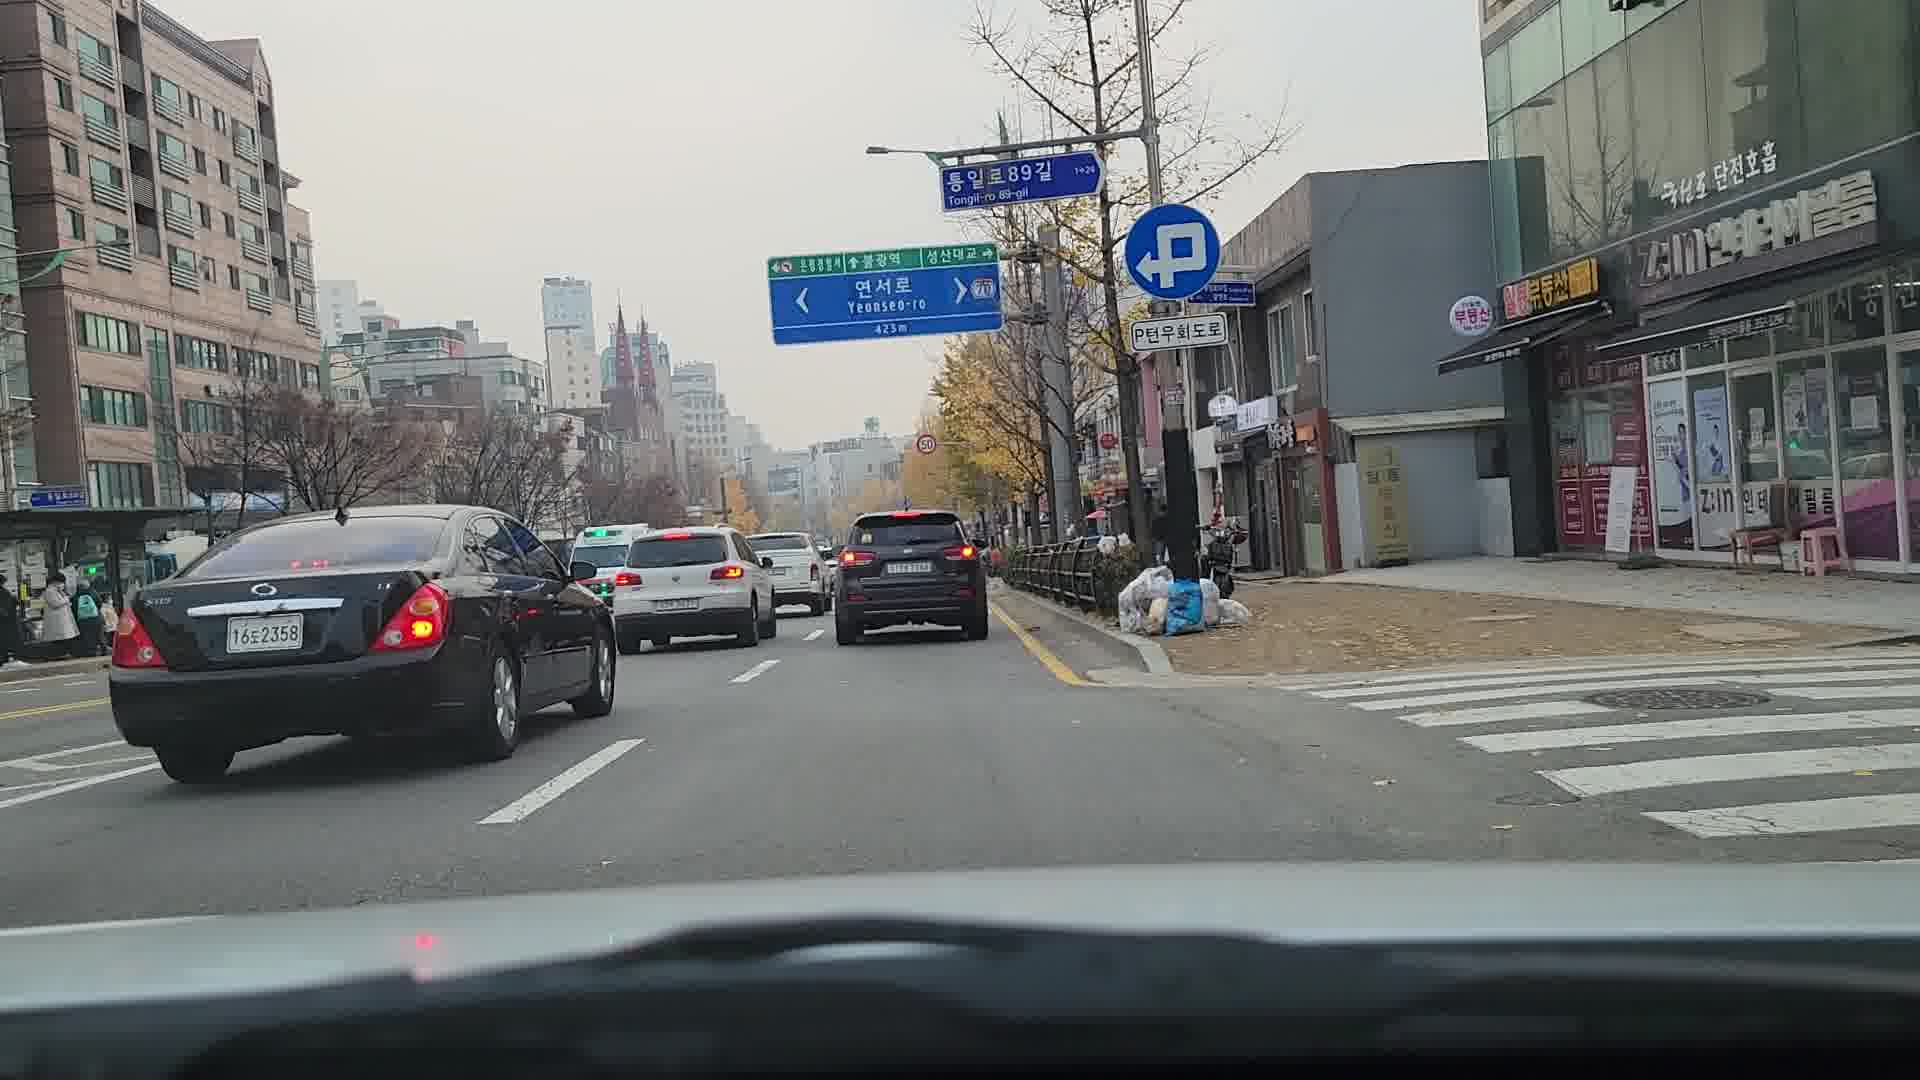car: (97, 499, 627, 782), (566, 522, 782, 653), (746, 531, 833, 615)
person: (1198, 515, 1248, 602)
truck: (830, 508, 990, 647)
